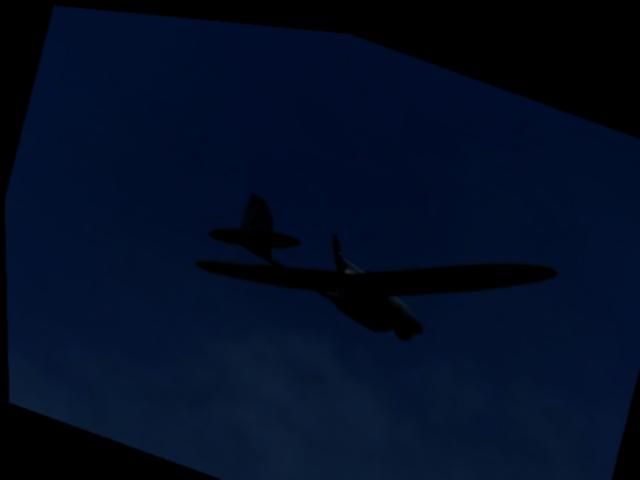uav: (186, 135, 563, 386)
